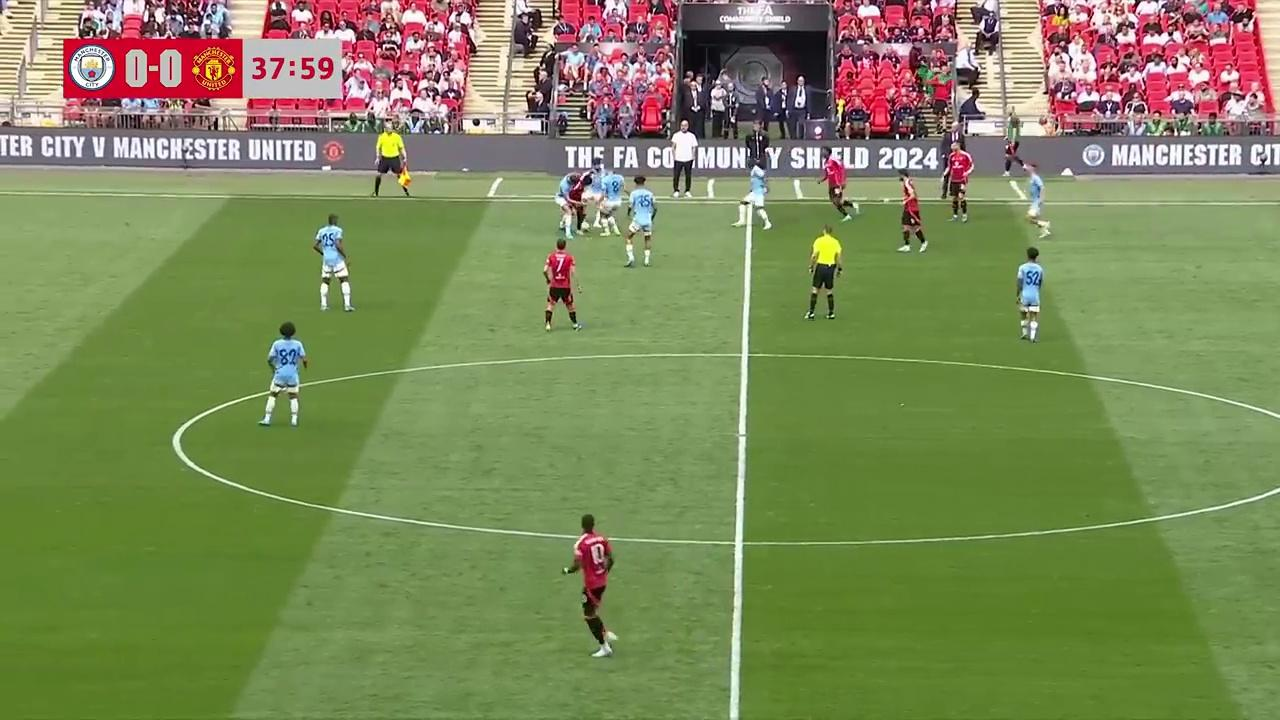player: (564, 515, 616, 657), (260, 321, 308, 428), (313, 213, 355, 312), (542, 240, 582, 332), (623, 177, 658, 267), (1015, 247, 1044, 341), (733, 165, 772, 230), (816, 153, 853, 220), (898, 179, 927, 253), (555, 172, 585, 237), (589, 174, 619, 237), (1025, 165, 1050, 236), (949, 161, 971, 222), (568, 174, 589, 237)
referee: (804, 224, 843, 320), (373, 123, 412, 198)
